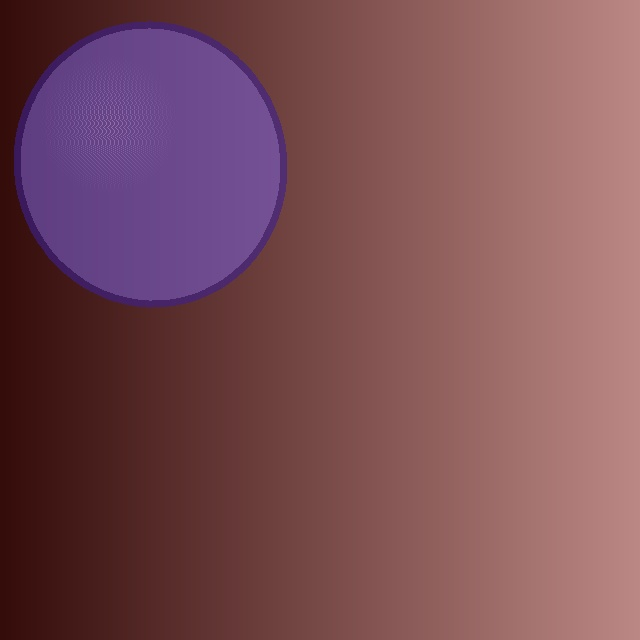lens: (17, 24, 283, 304)
